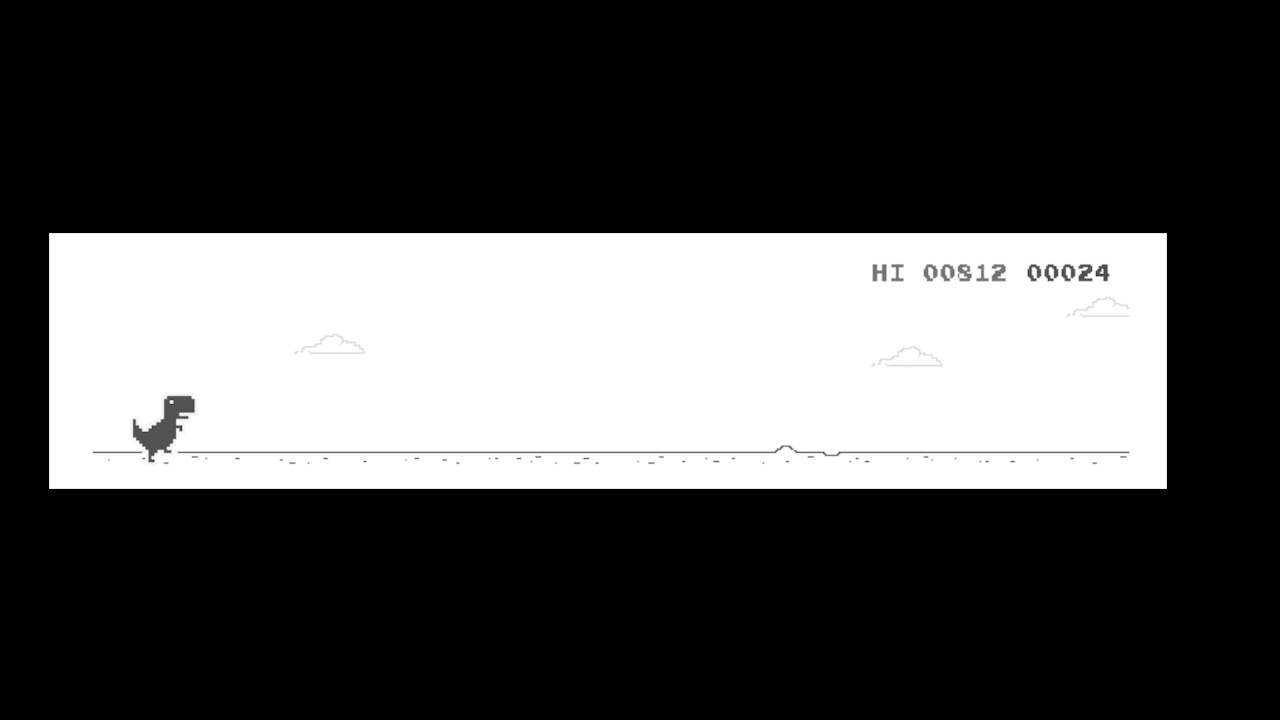dino: (130, 394, 196, 465)
